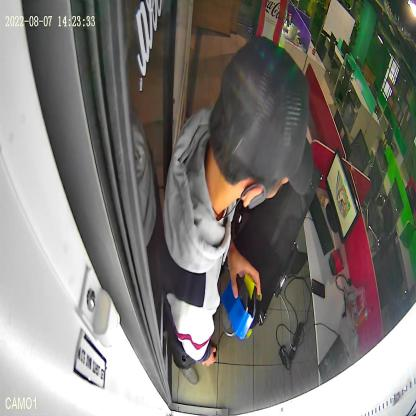blue: (220, 274, 254, 340)
yellow: (242, 273, 262, 339)
